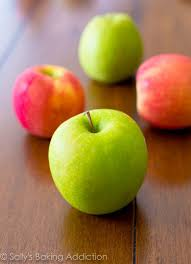apple: (49, 116, 153, 220), (77, 14, 155, 74), (18, 68, 81, 138), (133, 58, 191, 119)
